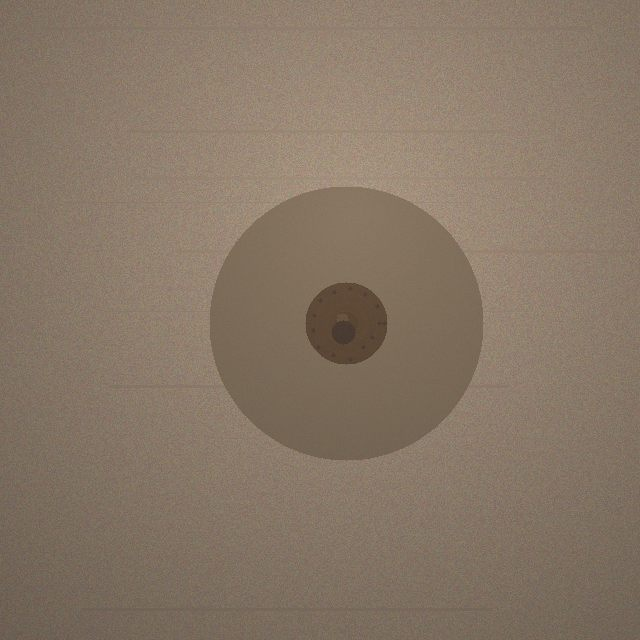cold_weld: (209, 186, 483, 460)
